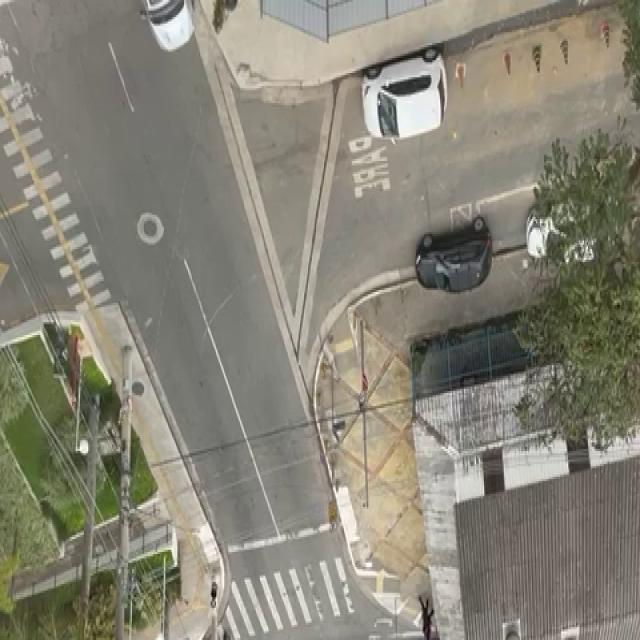car: (358, 46, 446, 140), (416, 217, 494, 293), (138, 0, 198, 64), (527, 206, 552, 257)
